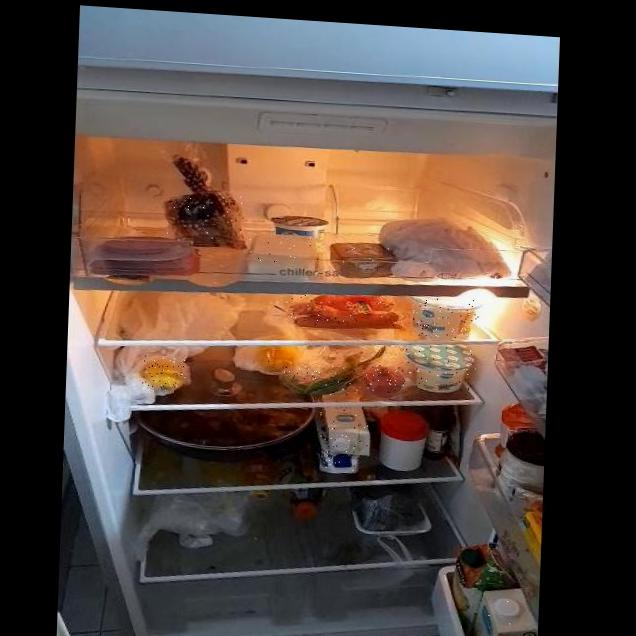bread: (165, 191, 246, 249)
butter: (328, 240, 395, 275)
carrot: (291, 294, 400, 330)
cheese: (247, 233, 319, 266)
green chilies: (281, 362, 358, 397)
lemon: (142, 355, 189, 389), (255, 346, 301, 373)
milk: (315, 408, 369, 471), (482, 586, 538, 636)
tomato: (363, 364, 405, 394)
yoghurt: (405, 345, 476, 392), (413, 295, 480, 340), (272, 213, 327, 238)
